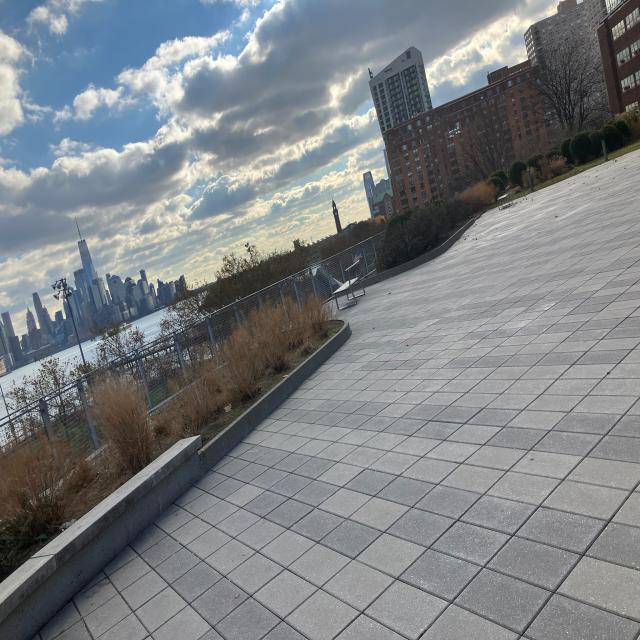WTC: (70, 215, 98, 286)
